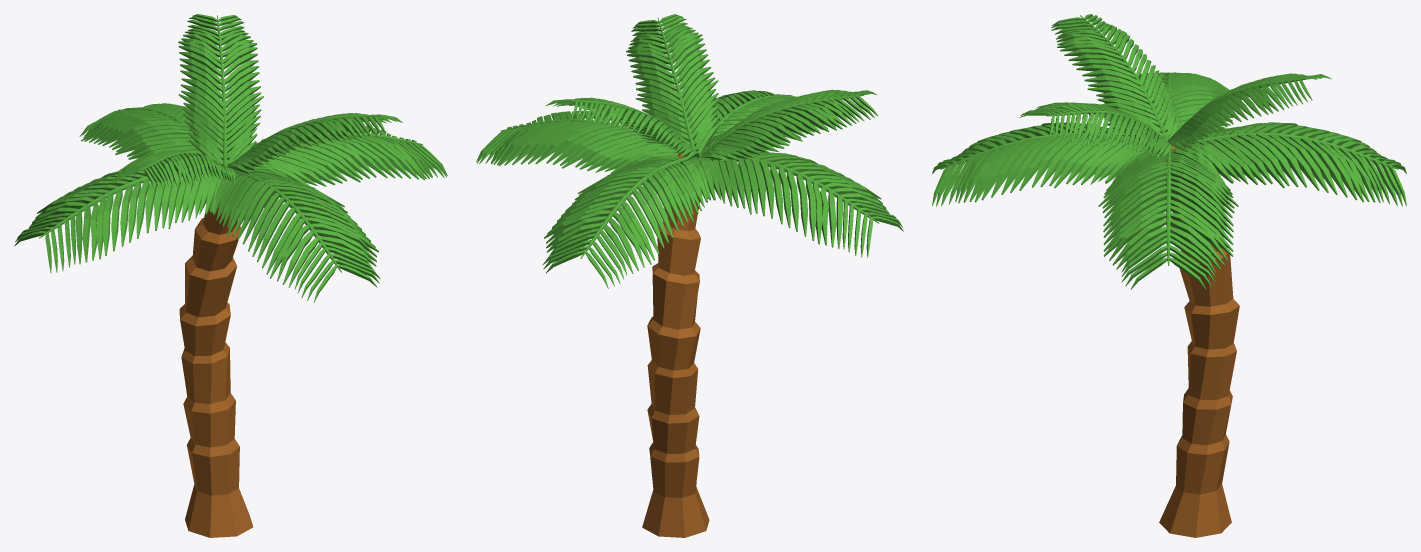
Rendered from ENVI_LV2-3_kelapa1.fbx.
The picture shows the model from 3 angles, left to right: view 1: azimuth 30°, elevation 25°; view 2: azimuth 150°, elevation 25°; view 3: azimuth 270°, elevation 25°; orthographic projection. The views are drawn at different scales.
Parts seen in each view (by area): view 1: kelapa1; view 2: kelapa1; view 3: kelapa1.
Part boxes in pixels (<box>): kelapa1: <box>14,14,447,537</box>; kelapa1: <box>476,14,903,537</box>; kelapa1: <box>932,14,1406,537</box>.
Bounding box in the file's own units: 504 × 553 × 506.
